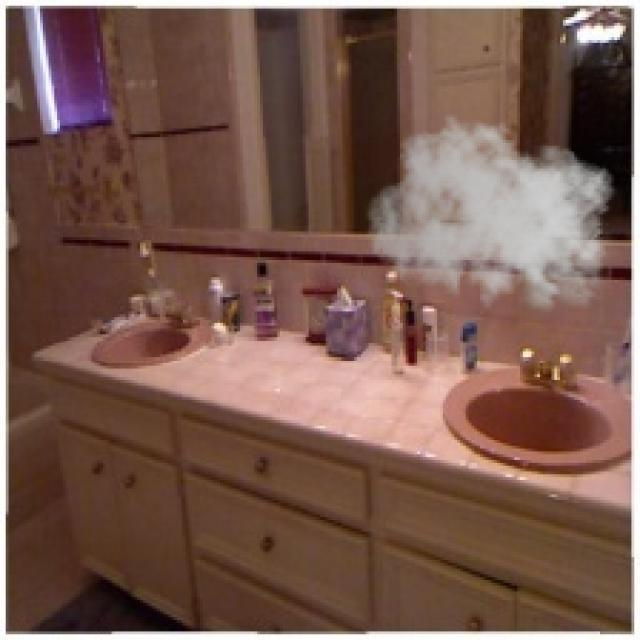Smoke: (366, 114, 623, 323)
